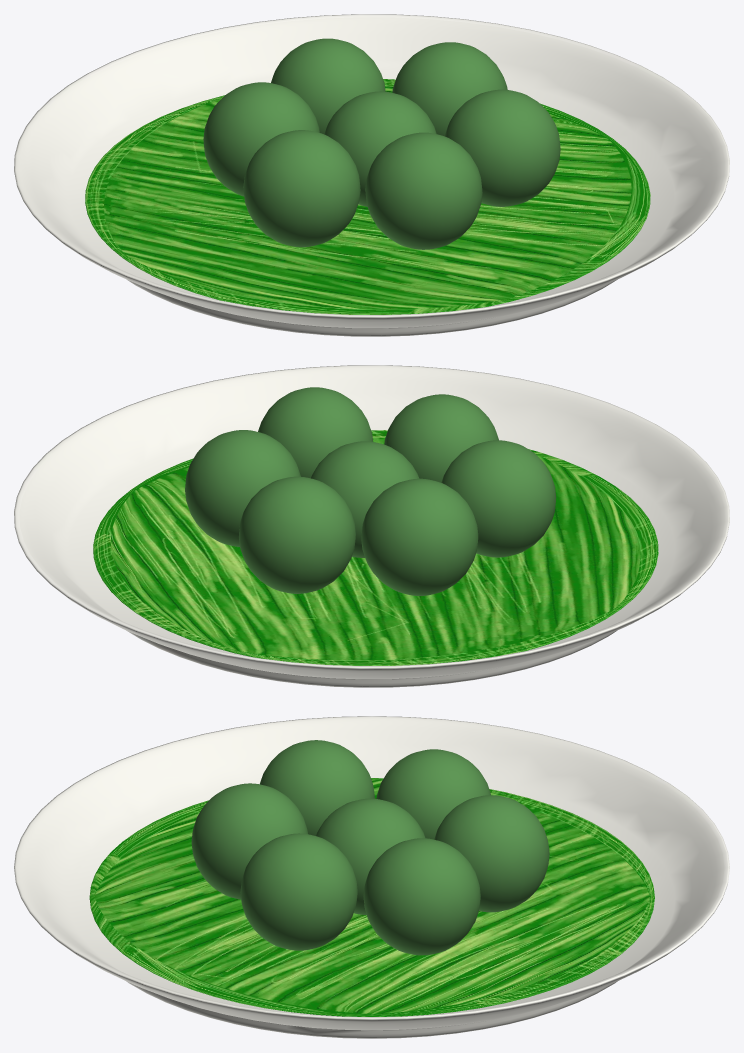
Rendered from klepon.glb.
3 views of the same model, one above another, from view 1: azimuth 30°, elevation 25°; view 2: azimuth 150°, elevation 25°; view 3: azimuth 270°, elevation 25° (orthographic).
Visible parts, largest first — view 1: Object_2, Object_3, Object_4; view 2: Object_2, Object_3, Object_4; view 3: Object_2, Object_3, Object_4.
Boxes of the visible parts, x1,y1,x2,y2 form: Object_2: (14,14,729,336); Object_3: (85,79,650,314); Object_4: (203,38,560,249); Object_2: (14,365,729,687); Object_3: (93,430,658,665); Object_4: (185,387,556,595); Object_2: (14,716,729,1038); Object_3: (89,778,654,1016); Object_4: (191,740,549,955).
Bounding box in the file's own units: 1.9 × 0.3614 × 1.9.
Materials: 3 (2 with a texture image).
